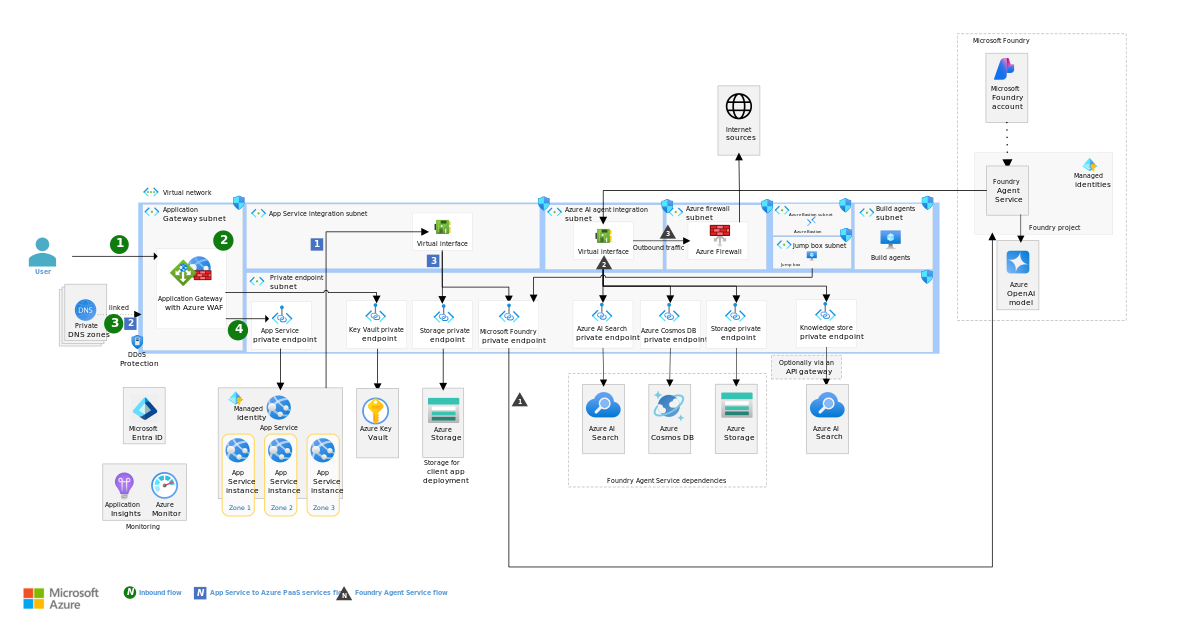api_gateway: (168, 265, 264, 303), (1008, 555, 1104, 581)
app_server: (300, 410, 372, 435), (1020, 379, 1092, 404), (420, 410, 492, 435), (540, 410, 612, 435), (660, 410, 732, 435), (780, 410, 852, 435), (900, 410, 972, 435), (1020, 410, 1092, 435), (1152, 410, 1200, 435)
database_nosql: (900, 517, 972, 555)
dns: (60, 410, 132, 435)
external_service: (864, 114, 936, 139)
firewall: (828, 328, 900, 353)
iam: (108, 517, 180, 555)
kms: (420, 517, 492, 555)
microservice: (672, 246, 768, 284), (816, 246, 912, 284), (300, 517, 372, 555), (780, 517, 852, 555), (1152, 517, 1200, 555), (1194, 88, 1200, 139), (1194, 215, 1200, 265), (1194, 341, 1200, 391)
monitoring: (108, 593, 180, 618), (180, 593, 252, 618)
storage_object: (540, 517, 612, 555), (1020, 517, 1092, 555)
subnet: (144, 177, 288, 227), (348, 240, 492, 290), (276, 328, 396, 366), (1008, 297, 1104, 334)
user: (30, 328, 66, 353)
vpc: (120, 47, 720, 331)
